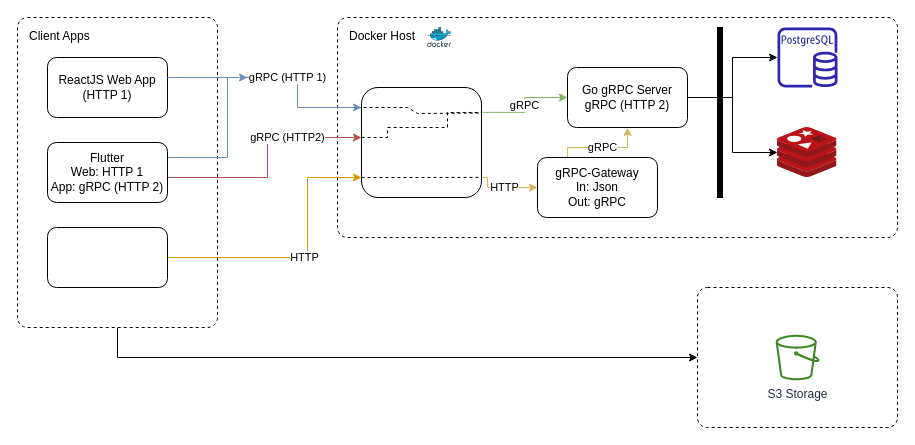
Some shapes in this 915 by 445 pixel diagram are drawn without their labels. Here are the shapes that lost their labels. From the top down, the box of each, then its label:
(360, 86, 482, 198): Traefik
(777, 127, 836, 177): Redis
(46, 226, 168, 288): Other Clients HTTP 1 + 2 JSON
(696, 286, 898, 428): S3 Provider (AWS / Contabo etc.)
